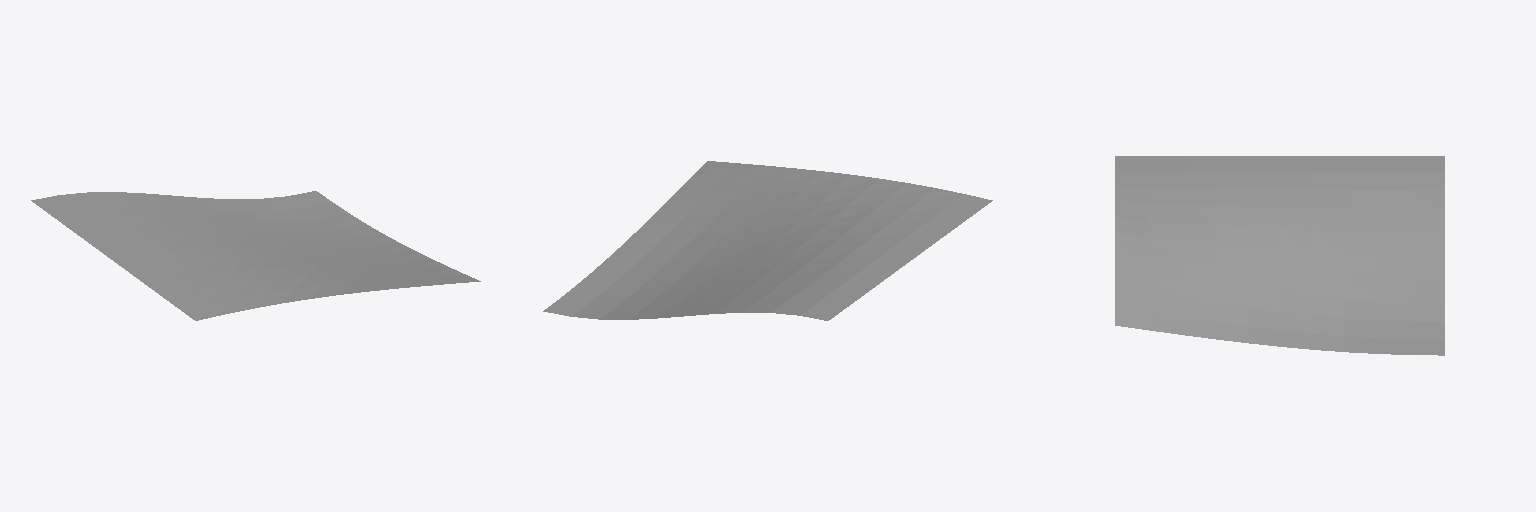
Rendered from grass_mid_bottom_to_top.obj.
3 views of the same model, side by side, from view 1: azimuth 30°, elevation 25°; view 2: azimuth 150°, elevation 25°; view 3: azimuth 270°, elevation 25° (orthographic).
Parts seen in each view (by area): view 1: Grass_Plane.015; view 2: Grass_Plane.015; view 3: Grass_Plane.015.
Boxes of the visible parts, <box> form: Grass_Plane.015: <box>31,191,480,320</box>; Grass_Plane.015: <box>543,161,992,320</box>; Grass_Plane.015: <box>1115,156,1444,355</box>.
Size of the model in its own units: 10 by 2 by 10.